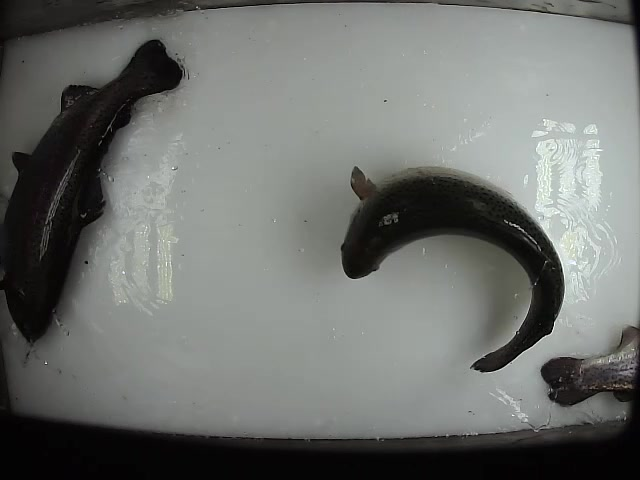fish: (1, 35, 185, 345), (338, 158, 566, 379)
